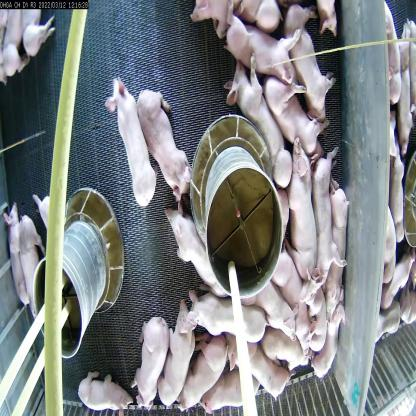Pig: (226, 48, 294, 184), (132, 83, 195, 203), (104, 80, 155, 224), (257, 49, 327, 150), (276, 0, 335, 108), (307, 128, 342, 292), (284, 122, 320, 279), (182, 290, 268, 351), (164, 210, 224, 294), (226, 12, 300, 79), (166, 298, 198, 415), (17, 214, 49, 324), (186, 339, 226, 416), (246, 275, 296, 335), (244, 336, 287, 404), (136, 318, 172, 399), (269, 329, 320, 378), (75, 373, 129, 415), (2, 204, 27, 294), (208, 369, 255, 416), (301, 280, 329, 347), (34, 179, 60, 229)
